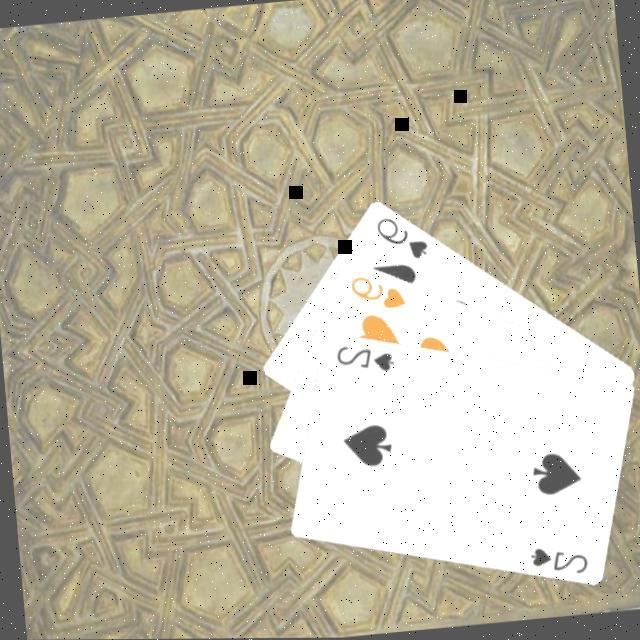2S: (332, 338, 400, 379), (526, 540, 594, 581)
9H: (346, 270, 411, 316)
9S: (374, 210, 434, 266)
